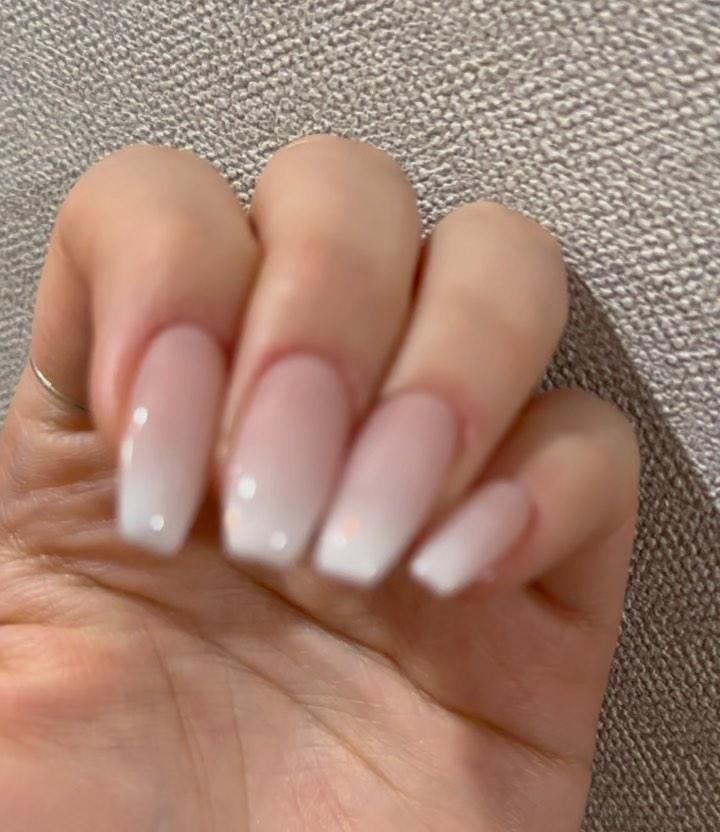nail: (310, 198, 569, 589), (214, 131, 421, 568), (310, 387, 459, 588), (218, 349, 354, 567), (114, 321, 225, 556), (406, 477, 533, 597)
